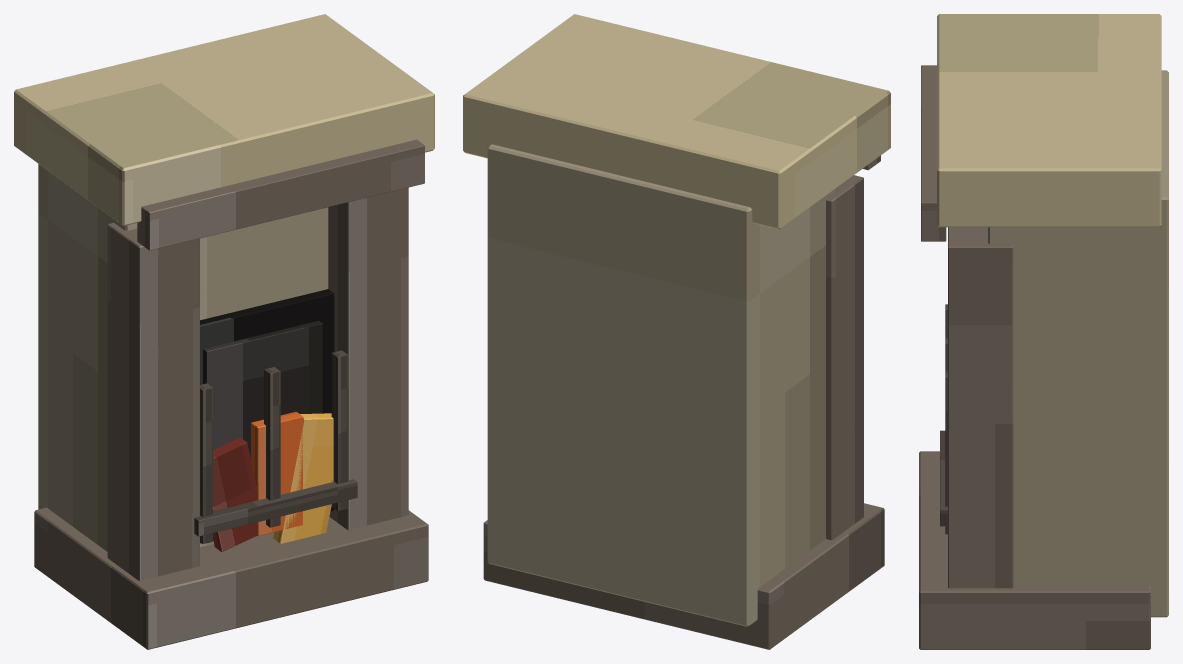
Rendered from mansion_fireplace.glb.
3 renders of one model, left to right at view 1: azimuth 30°, elevation 25°; view 2: azimuth 150°, elevation 25°; view 3: azimuth 270°, elevation 25°, orthographic. The views are drawn at different scales.
Parts seen in each view (by area): view 1: Mantel, FireplaceBody, StoneColumn_L, Hearth, StoneColumn_R, MantelTrim, FireboxBack, FireOpening, FireBlock_3, GrateRail, FireBlock_1, FireBlock_2 (+3 smaller); view 2: FireplaceBody, Mantel, Hearth, StoneColumn_L; view 3: FireplaceBody, Mantel, StoneColumn_R, Hearth, MantelTrim, GrateRail, Grate_0.22.
Part boxes in pixels (x1=…): Mantel: x1=14, y1=14, x2=434, y2=225; FireplaceBody: x1=38, y1=164, x2=328, y2=551; StoneColumn_L: x1=107, y1=222, x2=199, y2=580; Hearth: x1=34, y1=507, x2=428, y2=649; StoneColumn_R: x1=328, y1=187, x2=408, y2=529; MantelTrim: x1=137, y1=139, x2=424, y2=250; FireboxBack: x1=203, y1=321, x2=322, y2=458; FireOpening: x1=200, y1=289, x2=334, y2=543; FireBlock_3: x1=273, y1=413, x2=333, y2=543; GrateRail: x1=194, y1=479, x2=357, y2=536; FireBlock_1: x1=213, y1=437, x2=258, y2=551; FireBlock_2: x1=251, y1=411, x2=303, y2=536; FireplaceBody: x1=487, y1=144, x2=837, y2=626; Mantel: x1=463, y1=14, x2=890, y2=229; Hearth: x1=483, y1=503, x2=884, y2=649; StoneColumn_L: x1=826, y1=175, x2=863, y2=540; FireplaceBody: x1=988, y1=70, x2=1168, y2=617; Mantel: x1=937, y1=14, x2=1161, y2=227; StoneColumn_R: x1=948, y1=227, x2=1013, y2=588; Hearth: x1=919, y1=451, x2=1150, y2=649; MantelTrim: x1=921, y1=65, x2=946, y2=241; GrateRail: x1=940, y1=430, x2=947, y2=526; Grate_0.22: x1=945, y1=371, x2=947, y2=534.
Bounding box in the file's own units: 1.02 × 1.49 × 0.69.
1 material, 1 textured.
